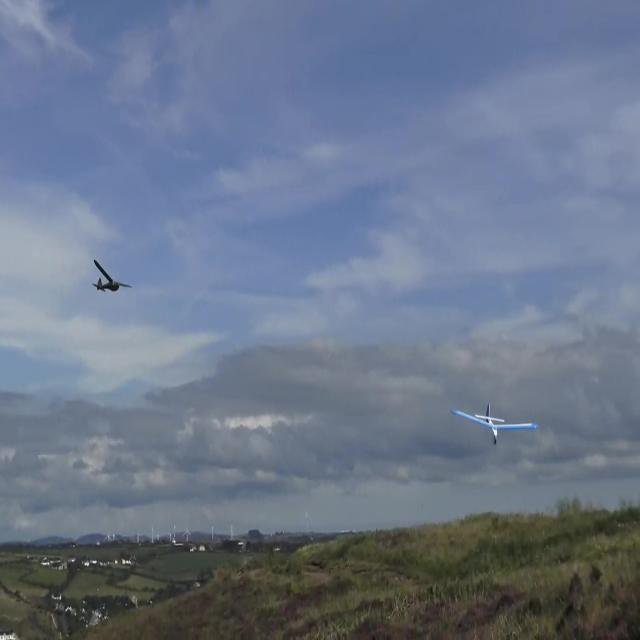iha: (26, 256, 70, 296), (482, 401, 508, 448)
